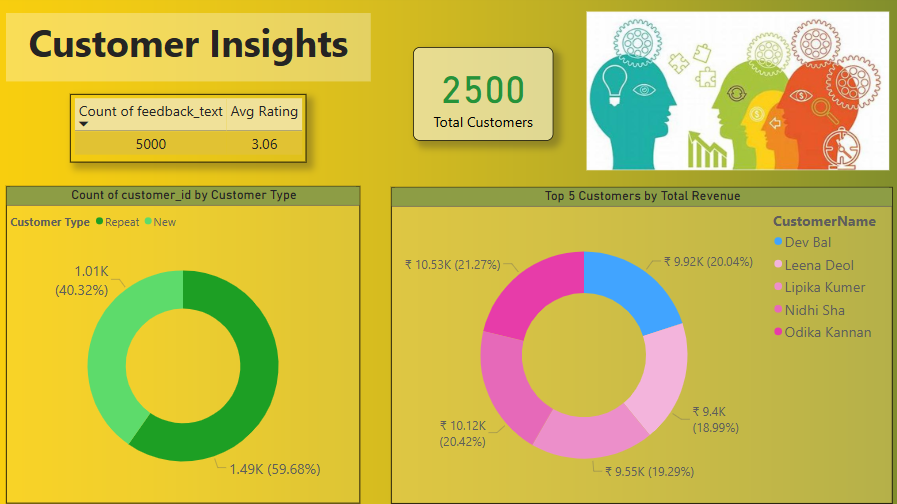

This screenshot's page, from the dashboard's own definition file:
{"tool":"powerbi","page":{"name":"Customer Insights","canvas":[1280,720],"ordinal":1},"visuals":[{"type":"donutChart","title":"Top 5 Customers by Total Revenue","fields":{"Y":["Measure Table.Total Revenue"],"Series":["customers.customer_name"]},"box":[557.4,270.6,711.3,448.8],"z":0},{"type":"donutChart","fields":{"Category":["customers.Customer Type"],"Y":["CountNonNull(customers.customer_id)"]},"box":[11.3,269,502.3,450.4],"z":1000},{"type":"tableEx","fields":{"Values":["Measure Table.Count of feedback_text","Measure Table.Avg Rating"]},"box":[102.1,139.3,335.4,97.2],"z":2000},{"type":"card","fields":{"Values":["Measure Table.Total Customers"]},"box":[588.2,72.9,199.3,132.9],"z":3000},{"type":"textbox","box":[11.3,24.3,516.9,97.2],"z":4000},{"type":"image","box":[829.6,0,439.1,269],"z":5000}]}

Visuals, with their boxes in screenshot pixels (x1, y1, x2, y2), scaled from the page's 1280x720 canvas onto the 897x504 screenshot:
"Top 5 Customers by Total Revenue" donutChart: bbox=[391, 189, 889, 503]
donutChart - customers.Customer Type x CountNonNull(customers.customer_id): bbox=[8, 188, 360, 503]
tableEx - Measure Table.Count of feedback_text x Measure Table.Avg Rating: bbox=[72, 98, 307, 166]
card - Measure Table.Total Customers: bbox=[412, 51, 552, 144]
textbox: bbox=[8, 17, 370, 85]
image: bbox=[581, 0, 889, 188]
